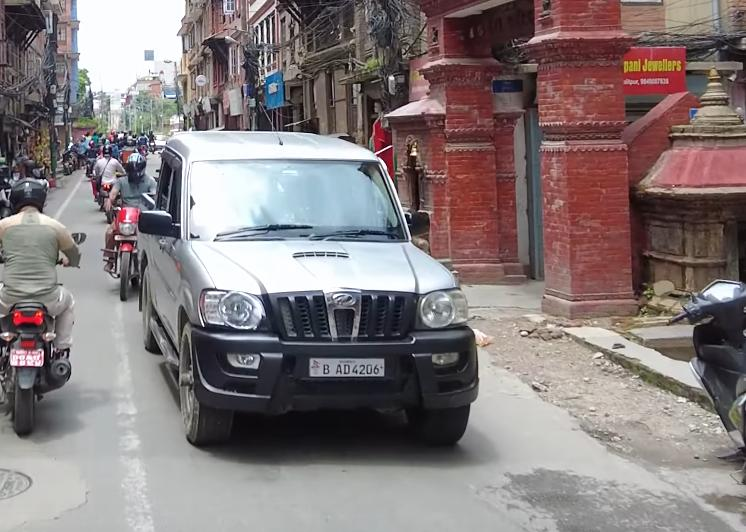SUV: (125, 121, 497, 461)
bike: (106, 200, 143, 304)
scooter: (665, 270, 746, 465)
